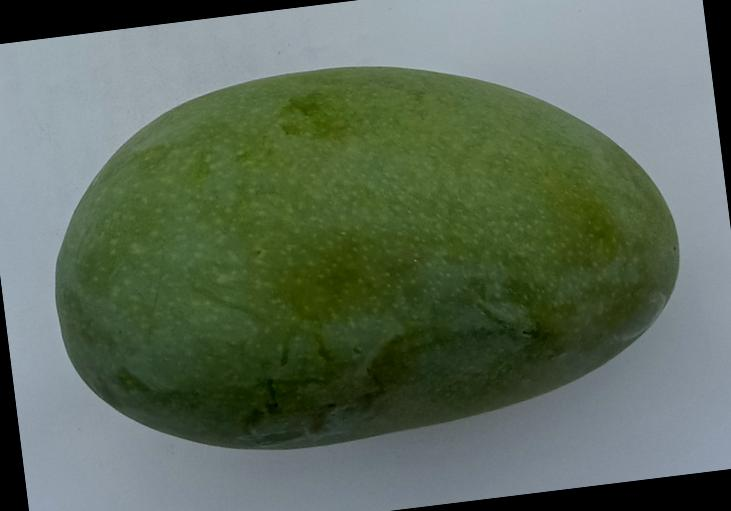Mango Unripe: (0, 9, 731, 502)
